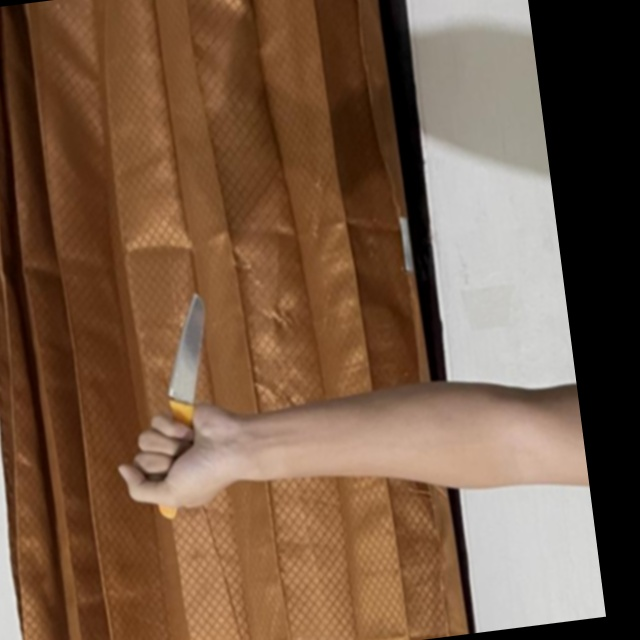Sharp-Object: (129, 289, 234, 524)
